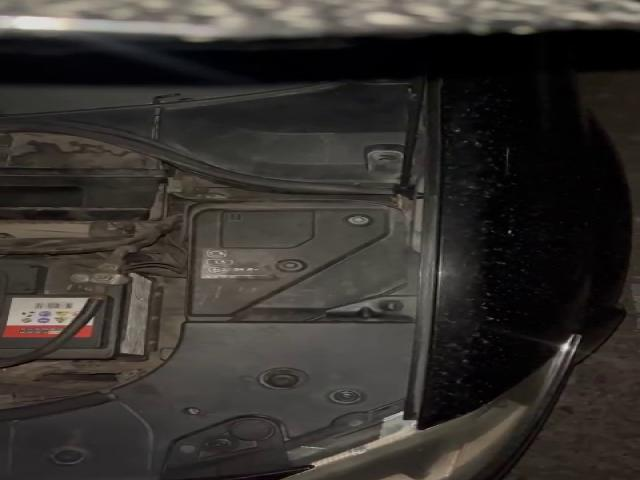accumulator: (5, 255, 167, 359)
fuse_box: (190, 210, 402, 314)
